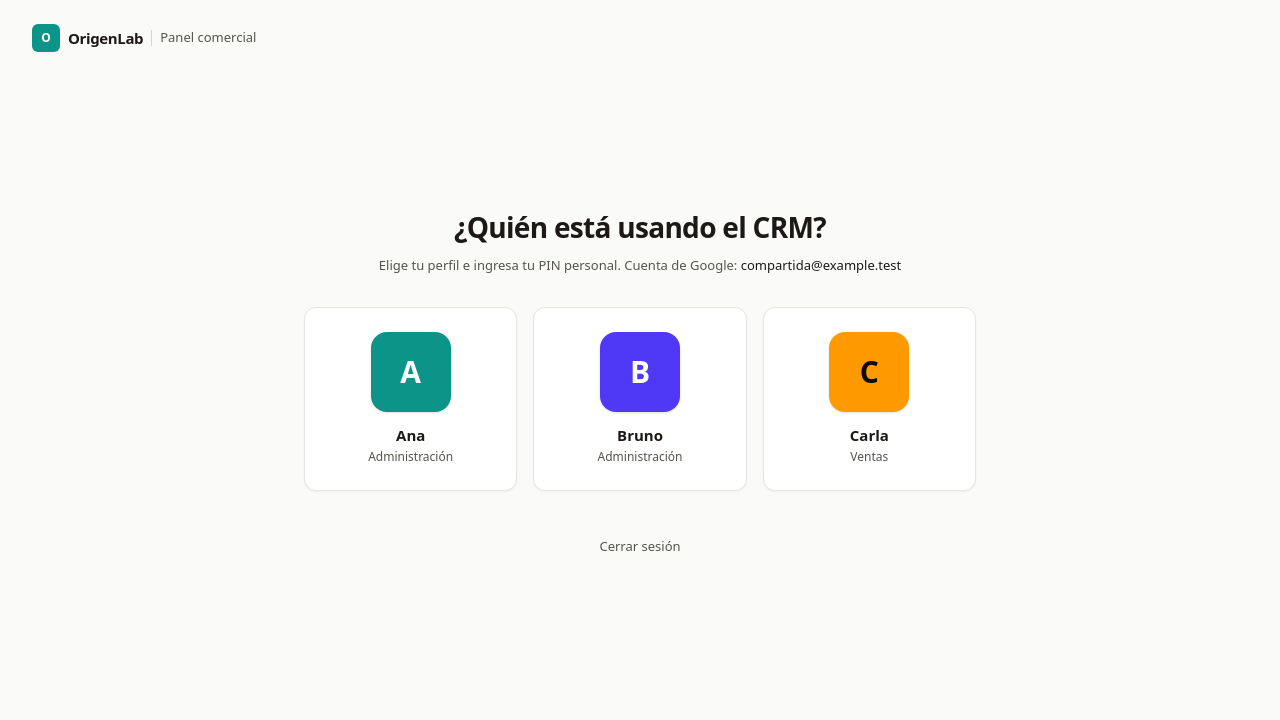
Scenario: the profile screen › answers every refusal with the same message, clears the PIN, and never names the reason
Step 1. Click the button with test id "profile-card" → coordinates (411, 399), box [304,307,517,491]
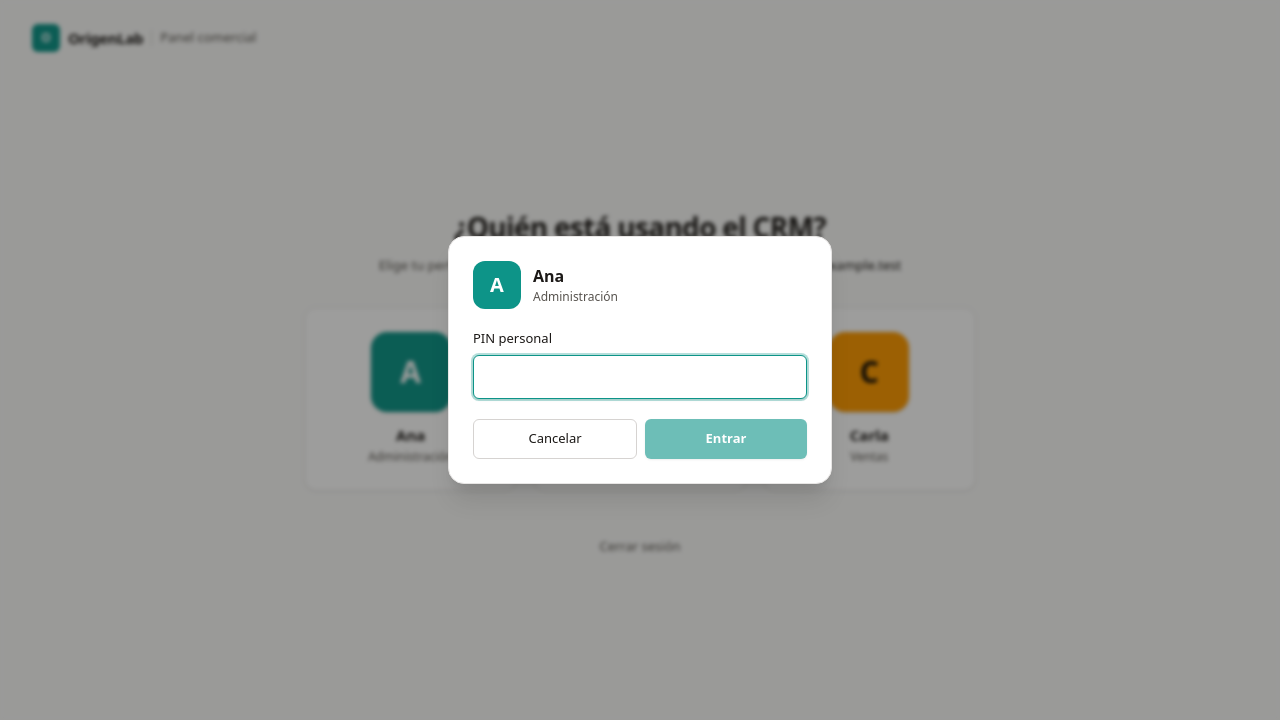
Step 2. Type "111111" into the password field with test id "pin-input" → coordinates (640, 377), box [473,355,807,399]
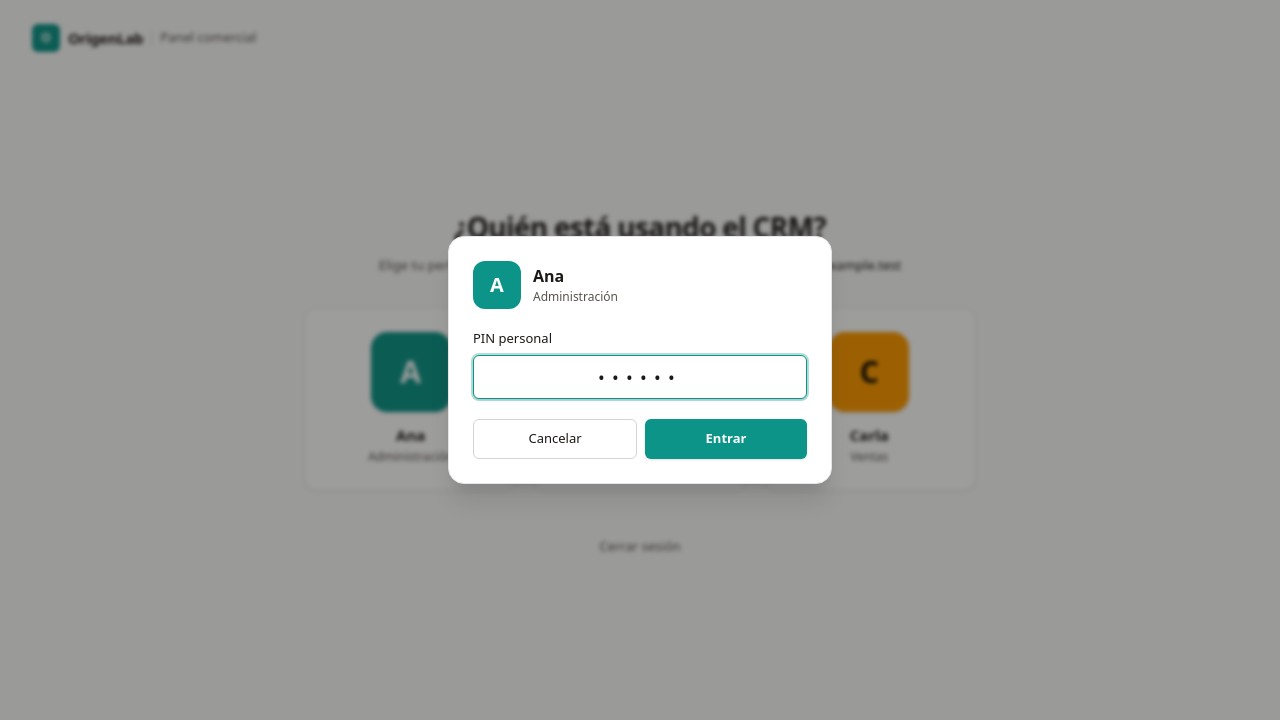
Step 3. Click the button with test id "pin-submit" → coordinates (726, 439), box [645,419,807,459]
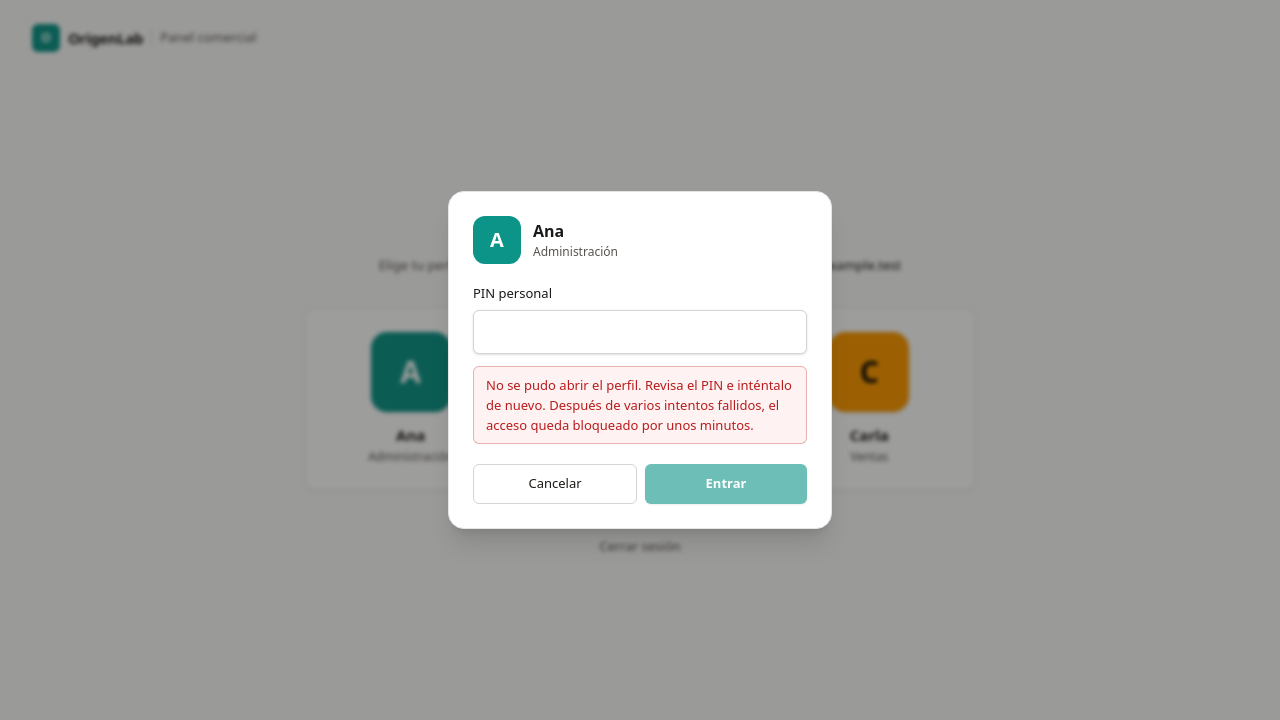
Expected: the message with test id "pin-error" shows "No se pudo abrir el perfil. Revisa el PIN", [486,376,792,434]
Expected: the password field with test id "pin-input" is empty, [473,310,807,354]
